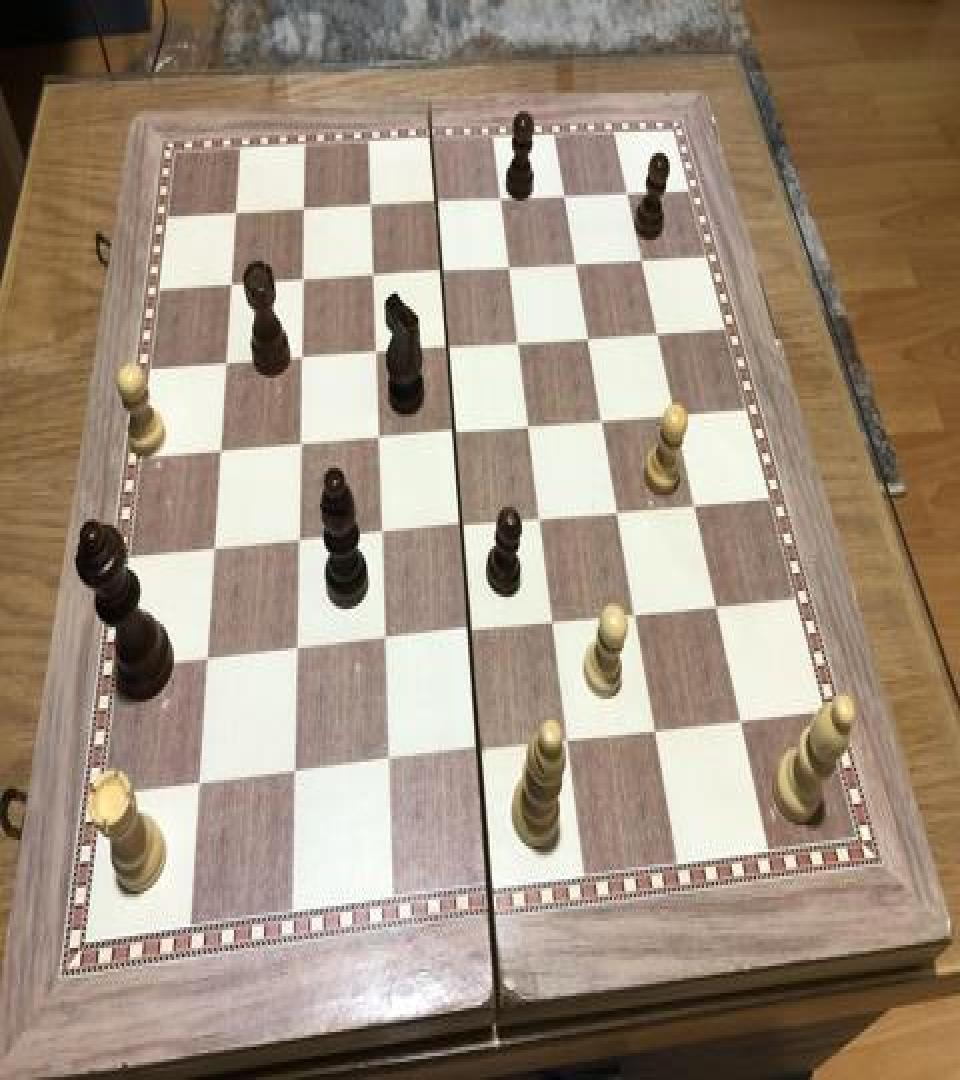xcorner: (453, 616, 477, 653), (368, 625, 392, 662), (185, 769, 209, 806), (613, 174, 637, 210), (550, 177, 574, 213), (487, 182, 511, 218), (423, 186, 447, 222), (357, 190, 381, 226), (292, 194, 316, 230), (225, 198, 249, 234), (627, 242, 651, 278), (561, 246, 585, 282), (495, 250, 519, 286), (427, 255, 451, 291), (290, 264, 314, 300), (220, 270, 244, 306), (642, 315, 666, 351), (574, 321, 598, 357), (504, 326, 528, 362), (433, 332, 457, 368), (361, 336, 385, 372), (288, 342, 312, 378), (214, 348, 238, 384), (660, 398, 684, 434), (587, 404, 611, 440), (514, 410, 538, 446), (439, 416, 463, 452), (363, 423, 387, 459), (286, 429, 310, 465), (208, 435, 232, 471), (679, 488, 703, 524), (602, 495, 626, 531), (525, 502, 549, 538), (446, 510, 470, 546), (366, 518, 390, 554), (284, 526, 308, 562), (202, 534, 226, 570), (700, 591, 724, 627), (619, 598, 643, 634), (537, 608, 561, 644), (282, 634, 306, 670), (194, 644, 218, 680), (724, 705, 748, 741), (638, 716, 662, 752), (551, 726, 575, 762), (462, 736, 486, 772), (372, 747, 396, 783), (279, 758, 303, 794), (359, 260, 383, 295)
